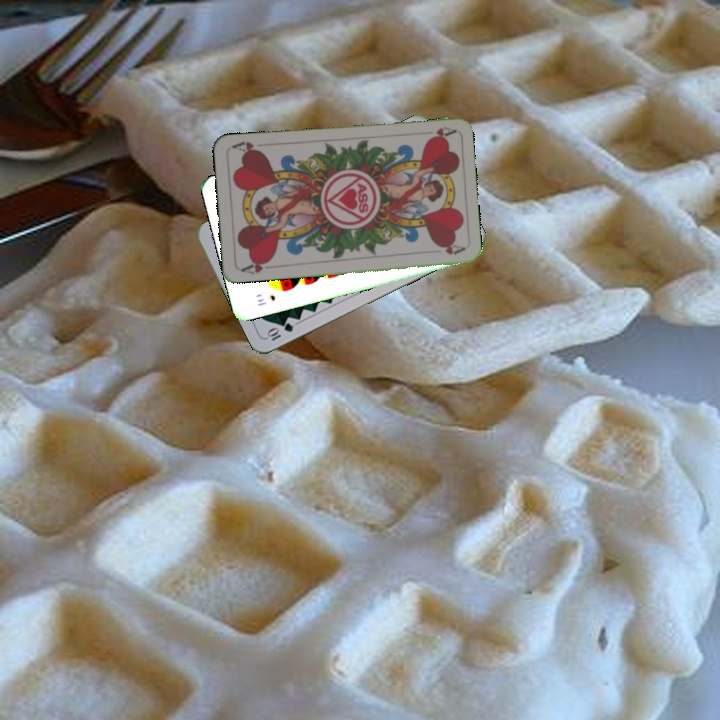G10: (263, 319, 296, 343)
HA: (237, 255, 277, 277), (416, 123, 457, 142)
S10: (253, 291, 278, 309)
